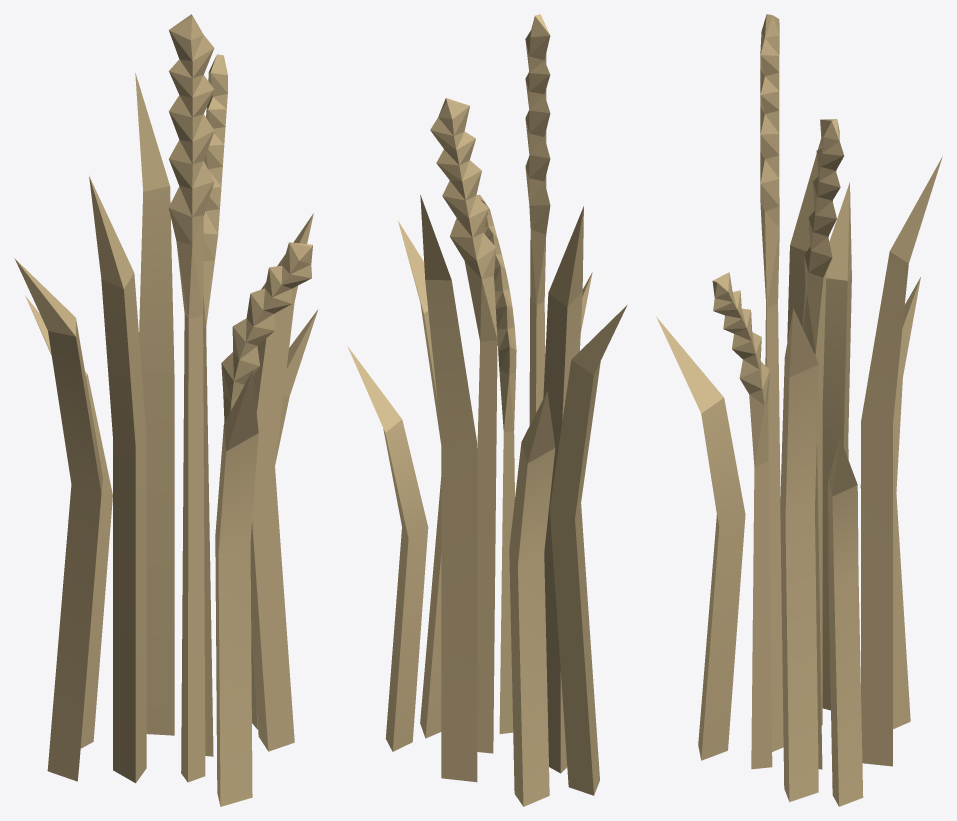
Rendered from SM_Prop_Plant_Wheat_02.fbx.
3 renders of one model, left to right at view 1: azimuth 30°, elevation 25°; view 2: azimuth 150°, elevation 25°; view 3: azimuth 270°, elevation 25°, orthographic. The views are drawn at different scales.
Visible parts, largest first — view 1: SM_Prop_Plant_Wheat_02; view 2: SM_Prop_Plant_Wheat_02; view 3: SM_Prop_Plant_Wheat_02.
Boxes of the visible parts, bbox=[...] form: SM_Prop_Plant_Wheat_02: bbox=[14, 14, 318, 806]; SM_Prop_Plant_Wheat_02: bbox=[347, 14, 627, 806]; SM_Prop_Plant_Wheat_02: bbox=[656, 14, 942, 806].
Size of the model in its own units: 0.4679 by 1.14 by 0.4035.
Materials: 1 (1 with a texture image).
